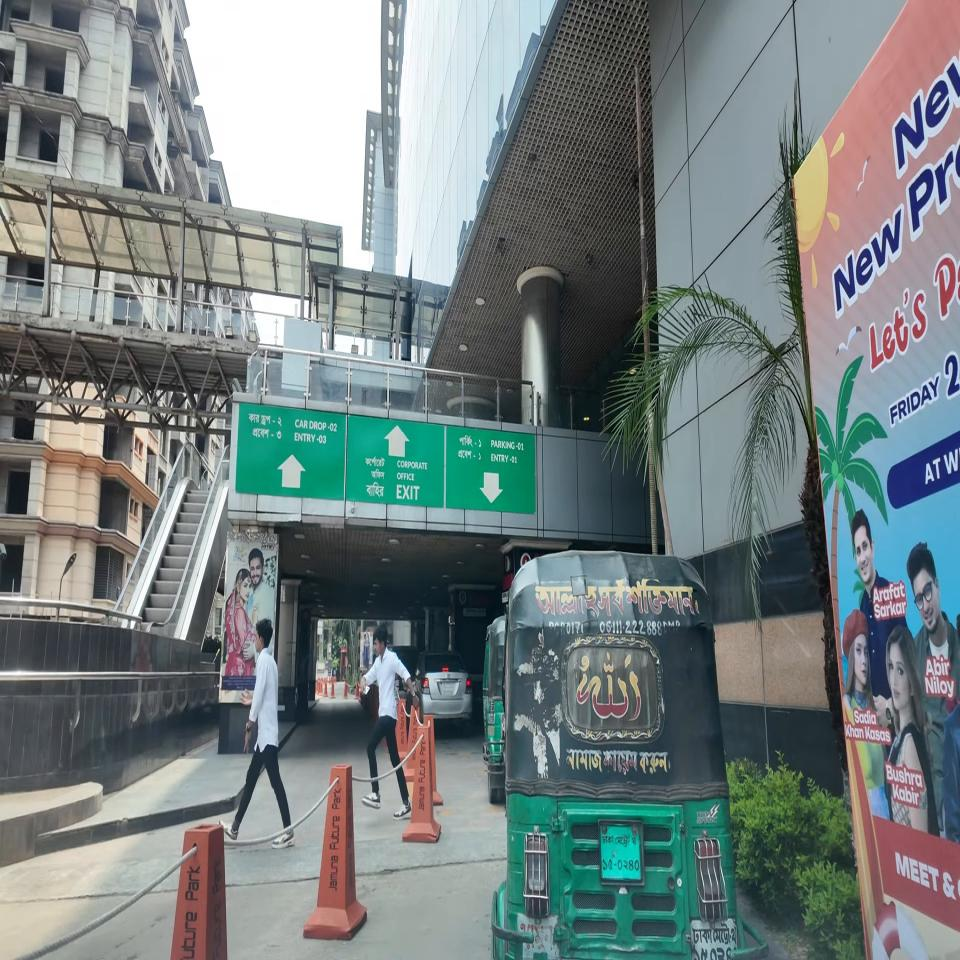person: (360, 625, 419, 820)
